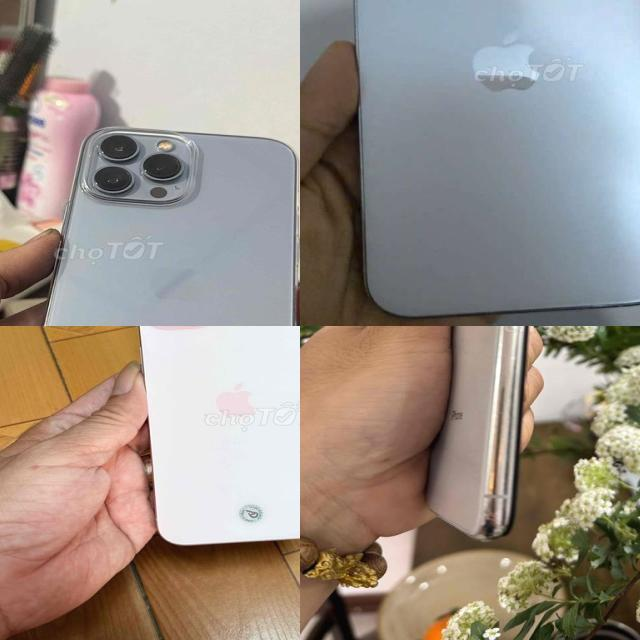gen_12_13: (12, 121, 300, 326)
gen_14: (356, 0, 640, 314)
gen_15: (125, 326, 300, 551)
gen_x_xs: (428, 326, 551, 544)
